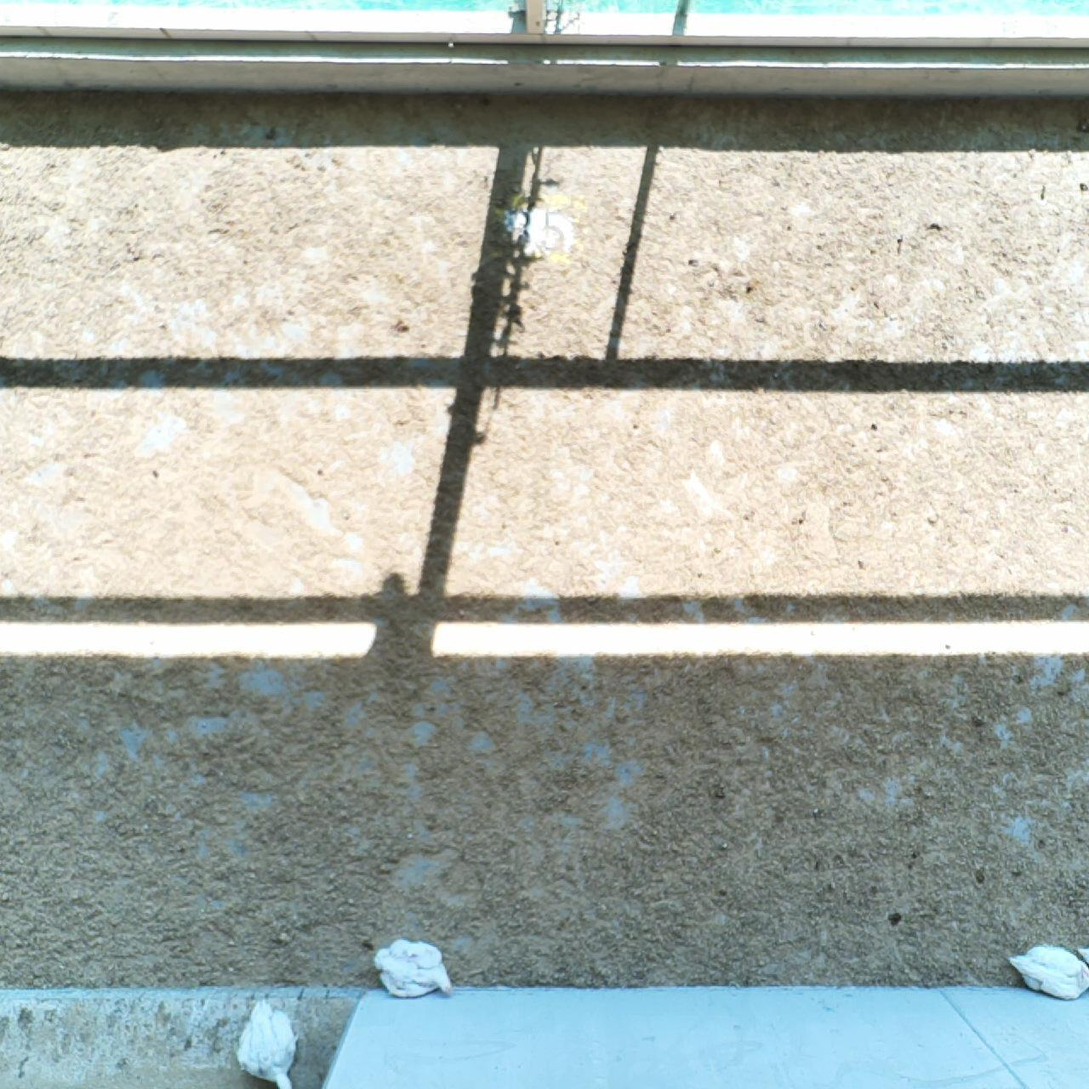chicken: (239, 1006, 297, 1089), (1008, 942, 1089, 1000), (373, 936, 451, 996), (1073, 938, 1089, 972)
